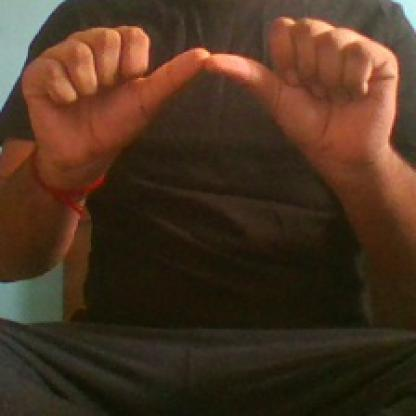A: (10, 10, 408, 188)
